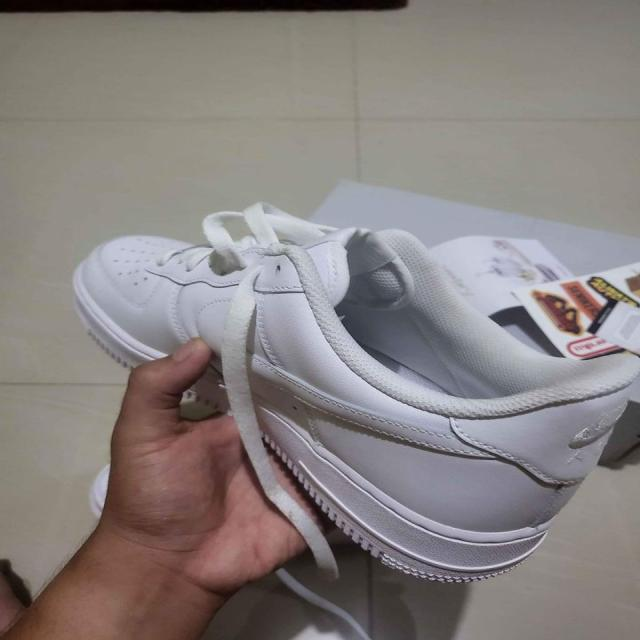nike original air force: (66, 213, 640, 584)
